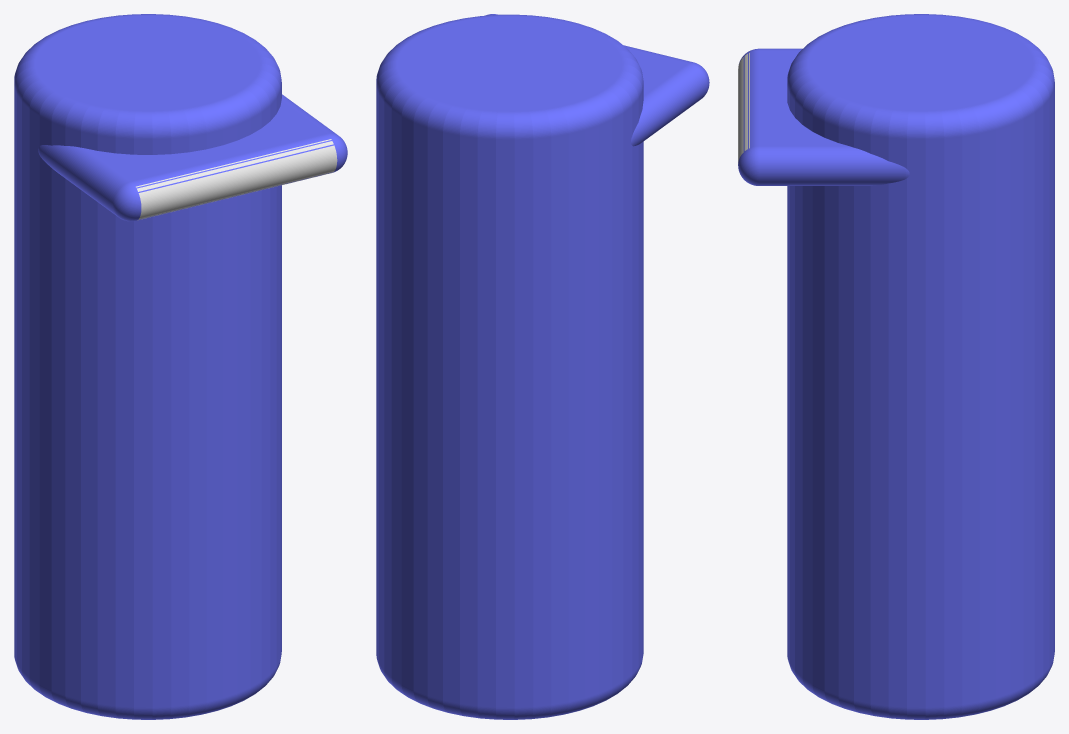
The model's file is Enemy .fbx.
3 views of the same model, side by side, from view 1: azimuth 30°, elevation 25°; view 2: azimuth 150°, elevation 25°; view 3: azimuth 270°, elevation 25° (orthographic).
Parts seen in each view (by area): view 1: Cylinder, Cylinder.001; view 2: Cylinder; view 3: Cylinder, Cylinder.001.
Boxes of the visible parts, left/top/right/bottom form: Cylinder: left=14, top=14, right=347, bottom=719; Cylinder.001: left=136, top=139, right=337, bottom=220; Cylinder: left=376, top=14, right=709, bottom=719; Cylinder: left=738, top=14, right=1054, bottom=719; Cylinder.001: left=738, top=53, right=749, bottom=163.
Size of the model in its own units: 200 by 500 by 237.
2 materials, 1 textured.
